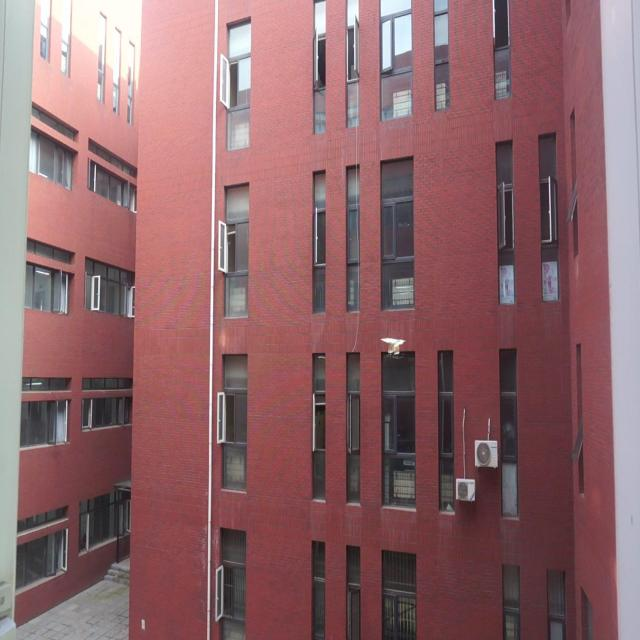drone: (379, 330, 406, 360)
